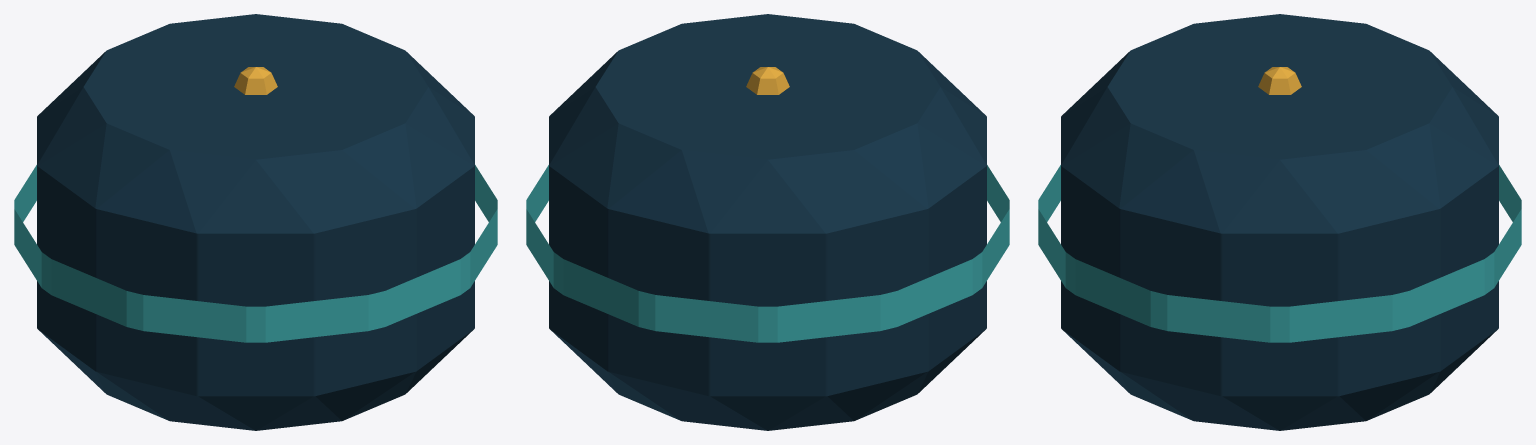
File: pouf_round.glb
The picture shows the model from 3 angles, left to right: view 1: azimuth 30°, elevation 25°; view 2: azimuth 150°, elevation 25°; view 3: azimuth 270°, elevation 25°; orthographic projection.
Parts seen in each view (by area): view 1: pouf_round; view 2: pouf_round; view 3: pouf_round.
Part boxes in pixels (bbox=[...]): pouf_round: bbox=[14, 14, 497, 430]; pouf_round: bbox=[526, 14, 1009, 430]; pouf_round: bbox=[1038, 14, 1521, 430].
Size of the model in its own units: 0.4848 by 0.322 by 0.4848.
